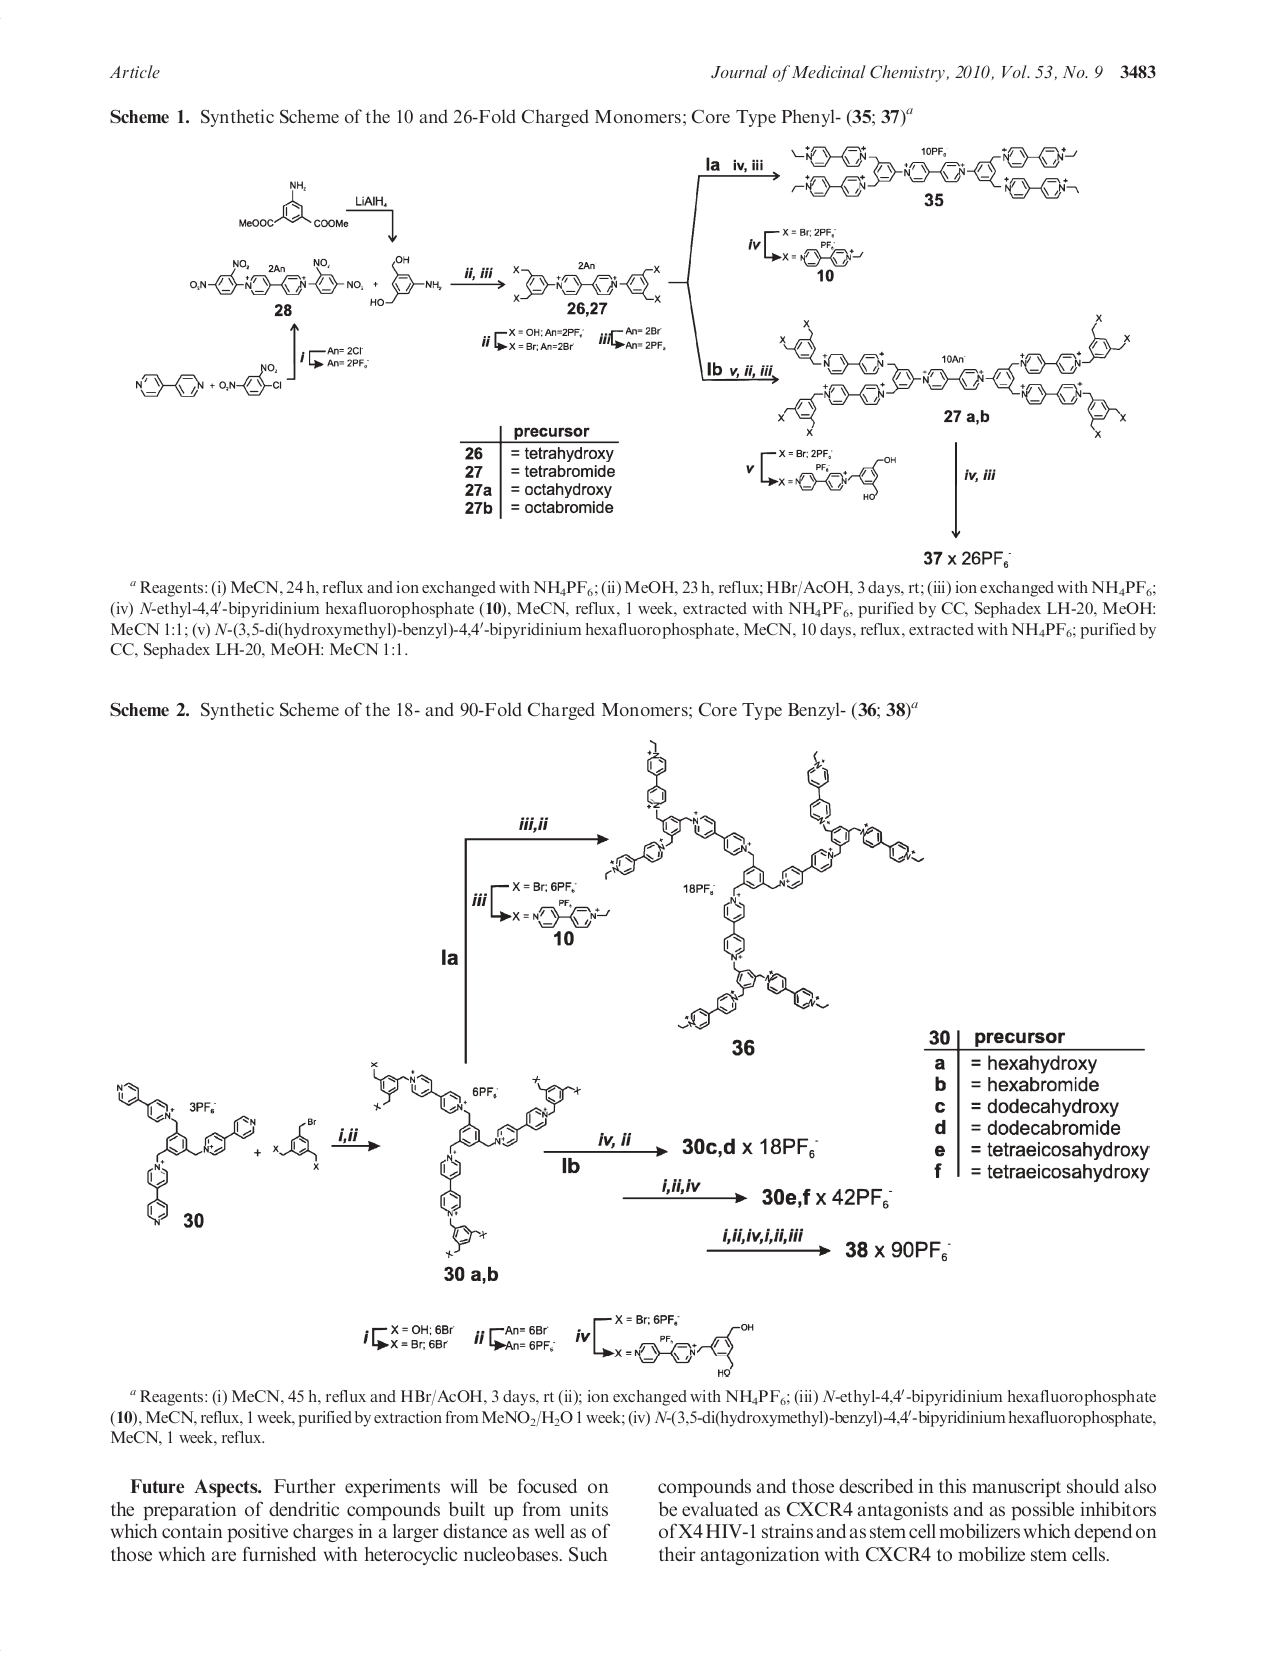exist_molecular: (600, 737, 928, 1033), (773, 310, 1145, 444), (364, 1055, 584, 1259), (110, 1079, 259, 1227), (786, 140, 1089, 201), (634, 1317, 759, 1384), (231, 174, 348, 242), (189, 255, 368, 297), (504, 261, 668, 306), (132, 355, 285, 400), (795, 453, 902, 501), (367, 251, 443, 317), (273, 1110, 324, 1174), (531, 898, 624, 930), (799, 241, 867, 273)
